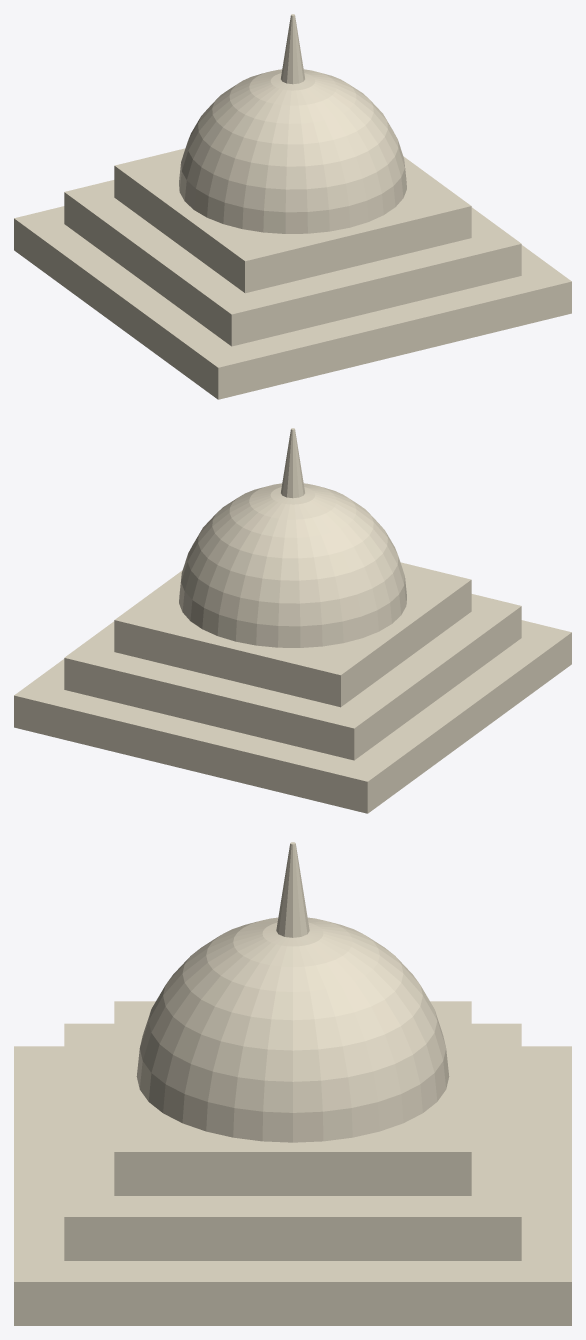
File: place-shwedagon-pagoda.glb
3 renders of one model, top to bottom at view 1: azimuth 30°, elevation 25°; view 2: azimuth 150°, elevation 25°; view 3: azimuth 270°, elevation 25°, orthographic. The views are drawn at different scales.
Parts seen in each view (by area): view 1: place-shwedagon-pagoda; view 2: place-shwedagon-pagoda; view 3: place-shwedagon-pagoda.
Part boxes in pixels (bbox=[...]): place-shwedagon-pagoda: bbox=[14, 14, 571, 399]; place-shwedagon-pagoda: bbox=[14, 428, 571, 813]; place-shwedagon-pagoda: bbox=[14, 842, 571, 1325].
Size of the model in its own units: 138 by 99.4 by 138.
